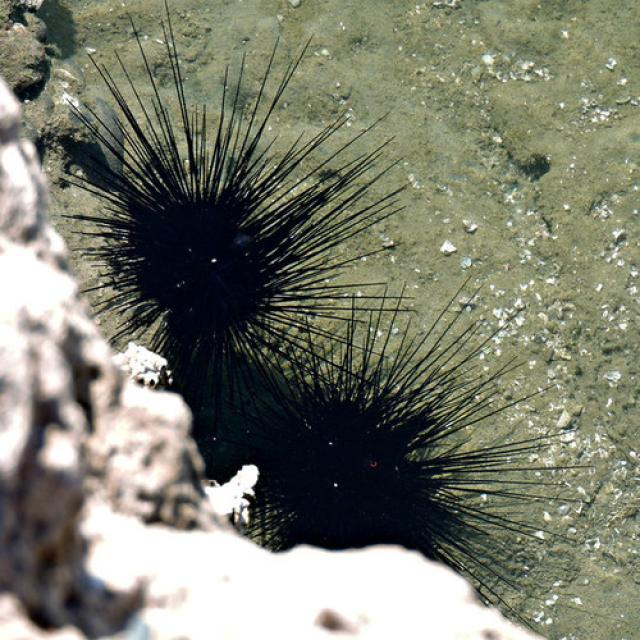Urchin: (43, 19, 400, 336), (218, 292, 546, 607)
